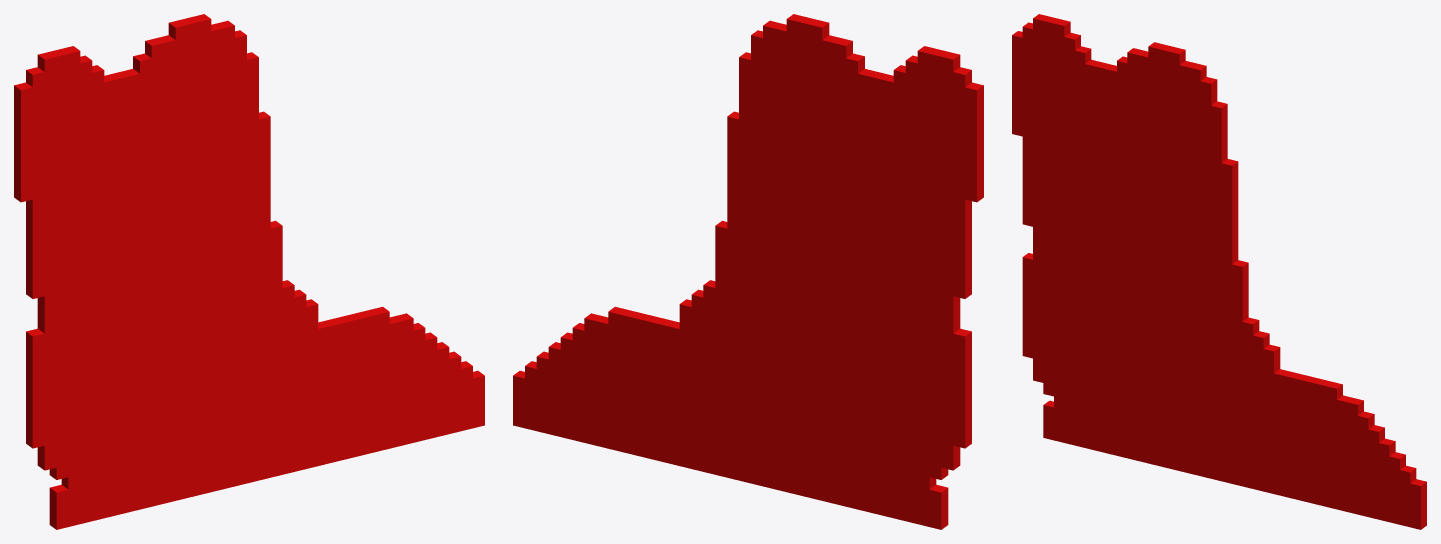
File: fox-4.obj
3 views of the same model, side by side, from view 1: azimuth 30°, elevation 25°; view 2: azimuth 150°, elevation 25°; view 3: azimuth 330°, elevation 25° (orthographic). The views are drawn at different scales.
Size of the model in its own units: 3.9 by 3.8 by 0.1.
Materials: 1 (1 with a texture image).
